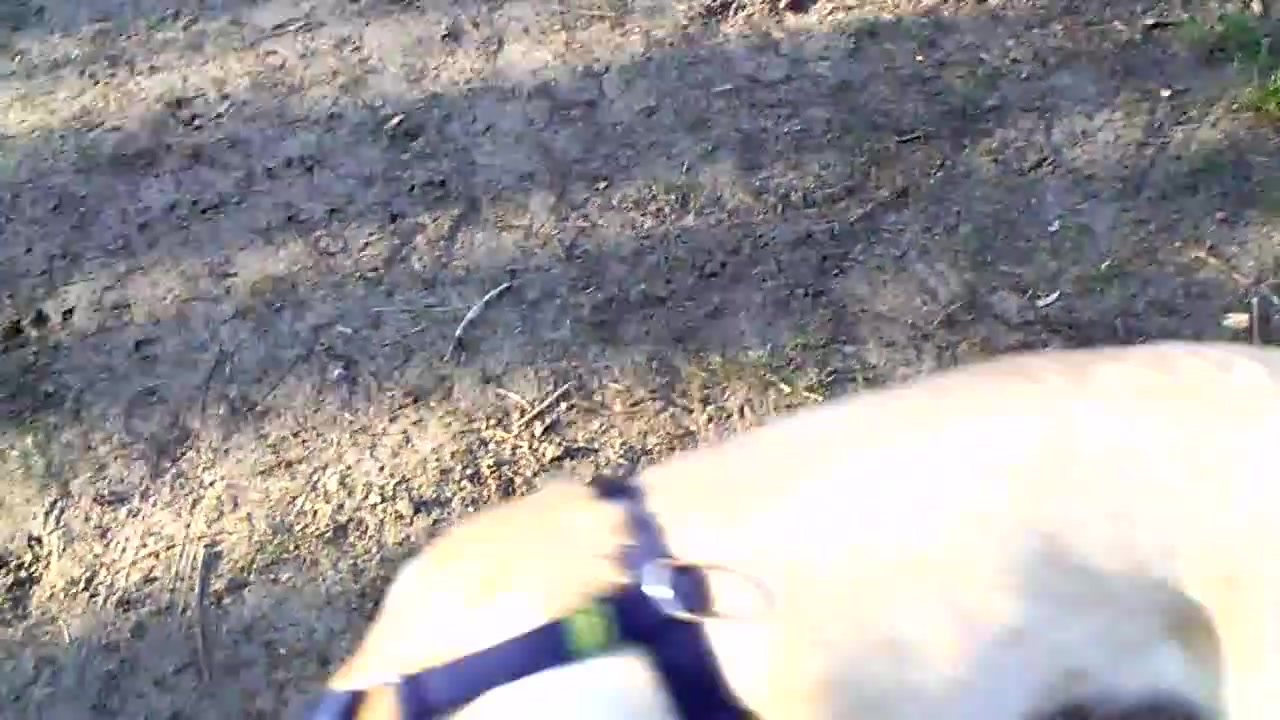dog: (313, 334, 1280, 720)
